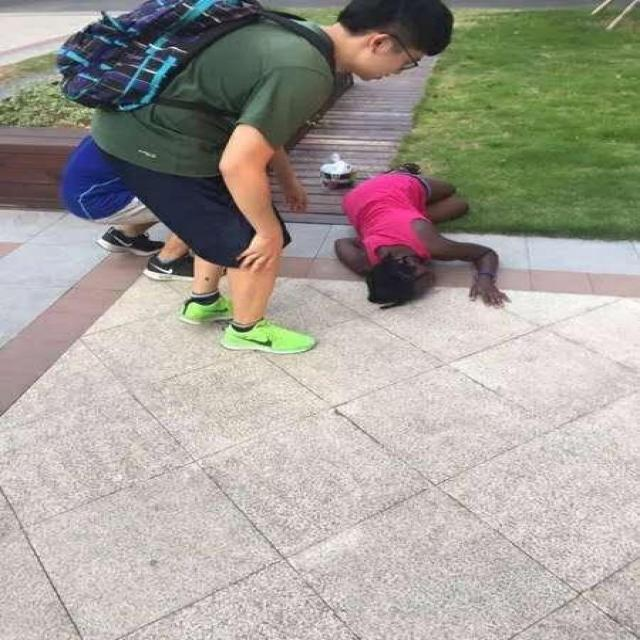fall: (317, 148, 508, 328)
